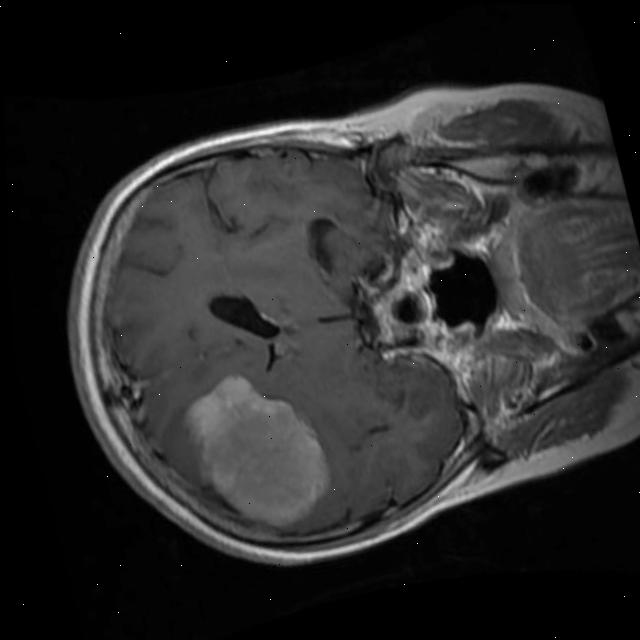Meningioma: (168, 353, 346, 544)
